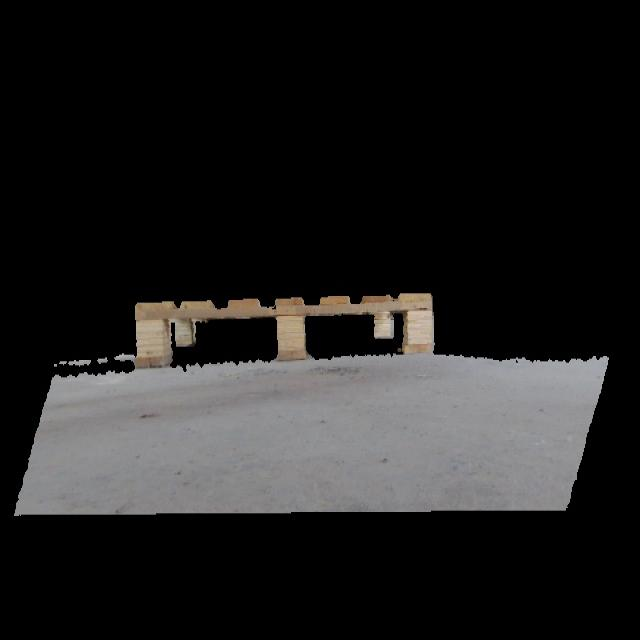block: (132, 302, 170, 372), (403, 295, 440, 356), (277, 300, 314, 359), (373, 309, 398, 341), (174, 317, 196, 350)
front: (131, 293, 436, 368)
